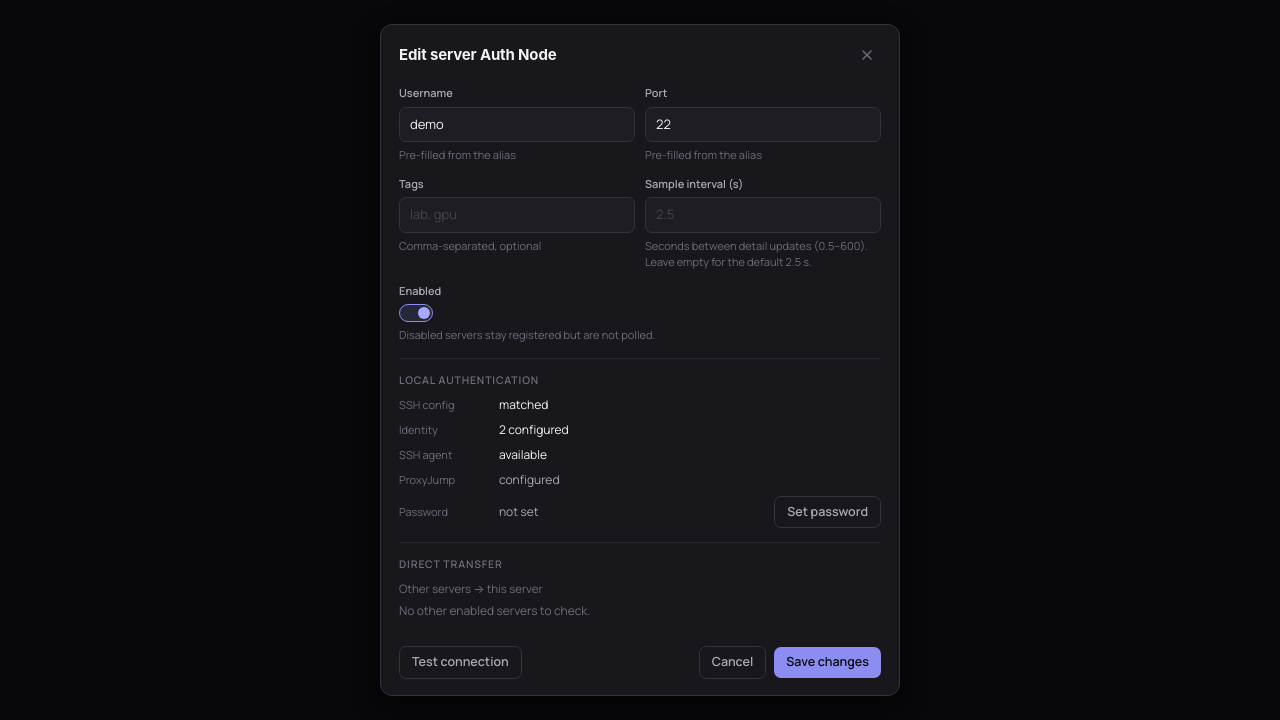
Scenario: ServerDialog password credential flow › opens an empty password input (never prefilled), saves via PUT, clears the input instantly
(page scrolled)
Click the button "Set password" at (828, 512), box [774,496,881,528]
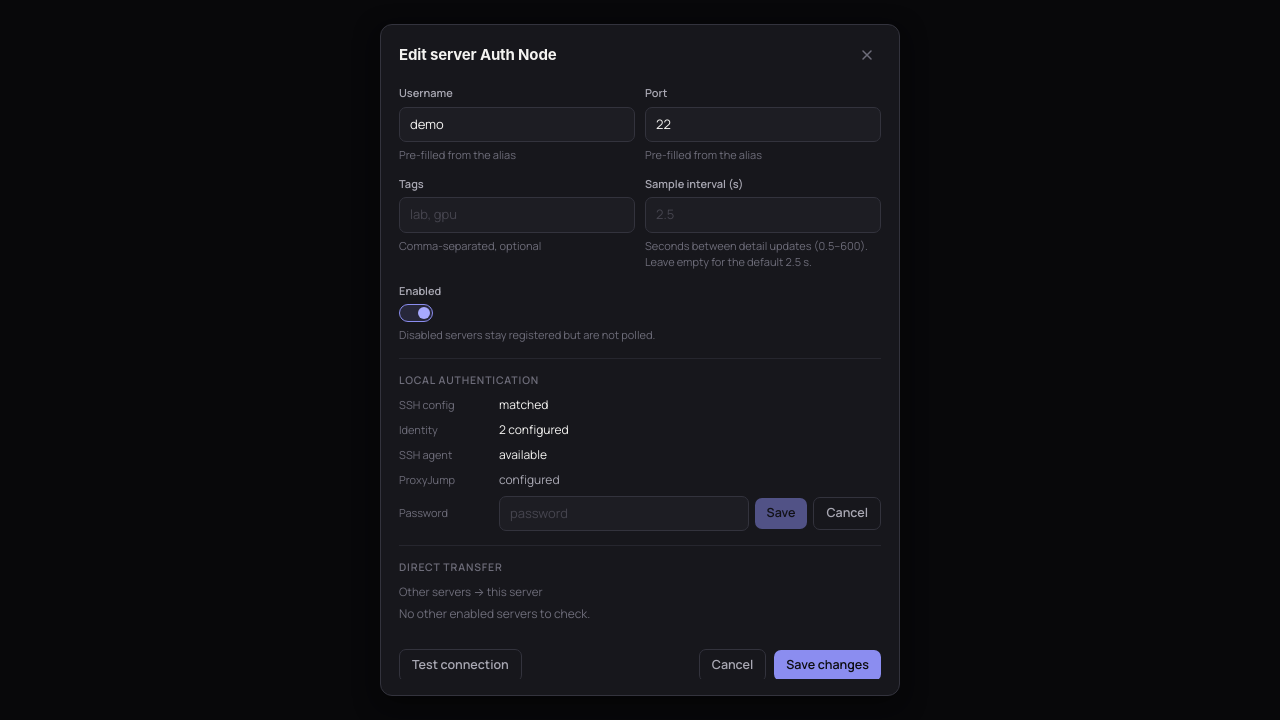
Check: the password field labelled "password" is empty
Type "s3cret-pw" into the password field labelled "password" at (624, 513), box [499,496,749,531]
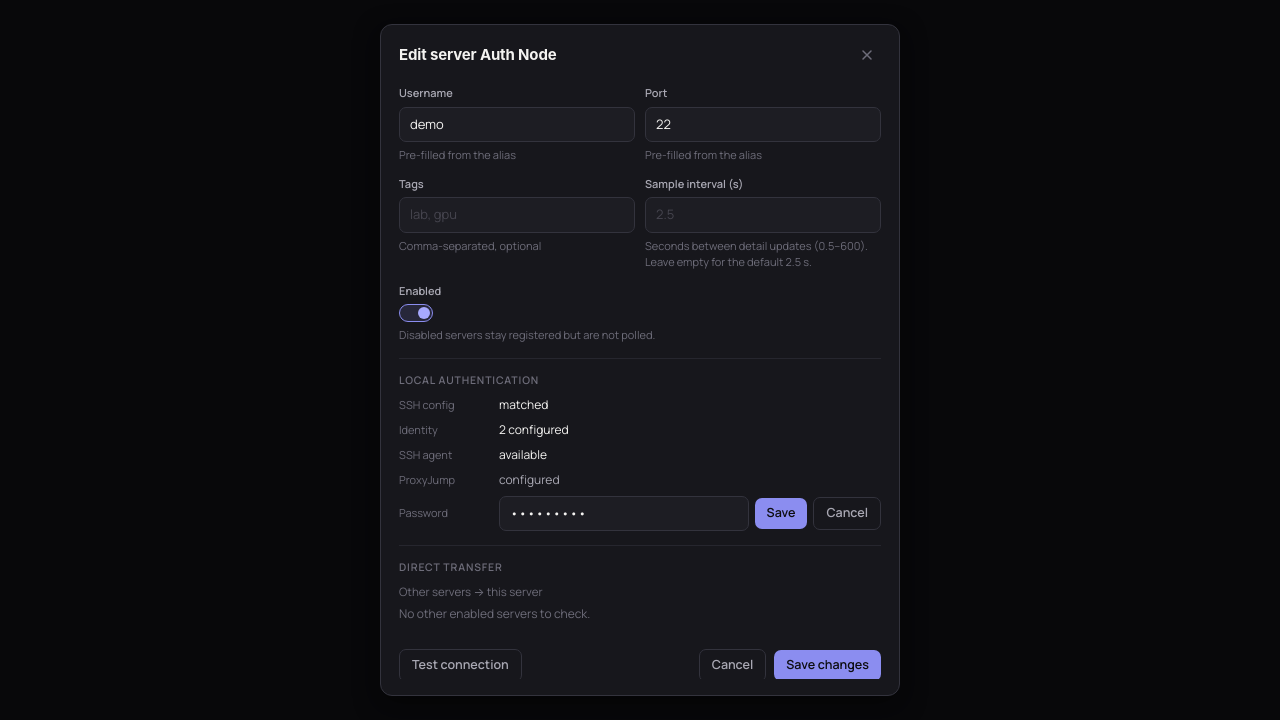
Click the button "Save" at (781, 513), box [755,498,807,529]
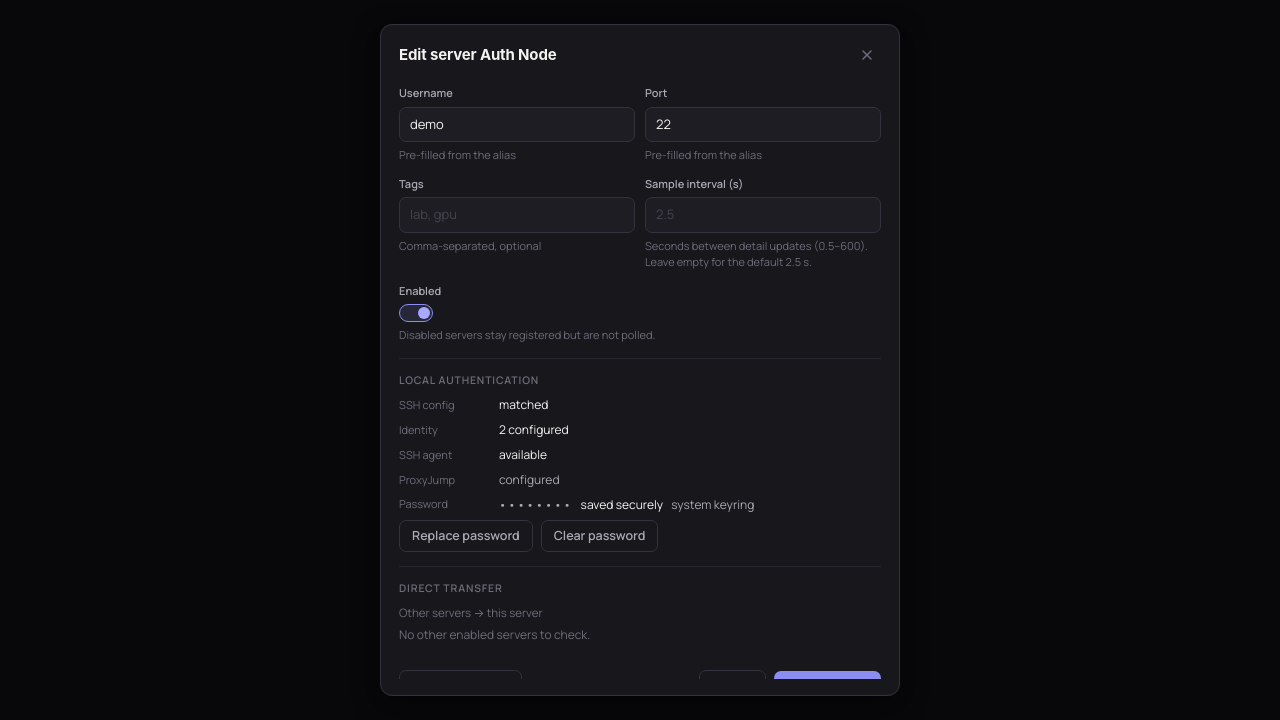
Check: the text "••••••••" is shown, box [499,496,573,514]
Check: the text "saved securely" is shown, box [581,496,663,514]
Check: the text "system keyring" is shown, box [671,496,754,514]
